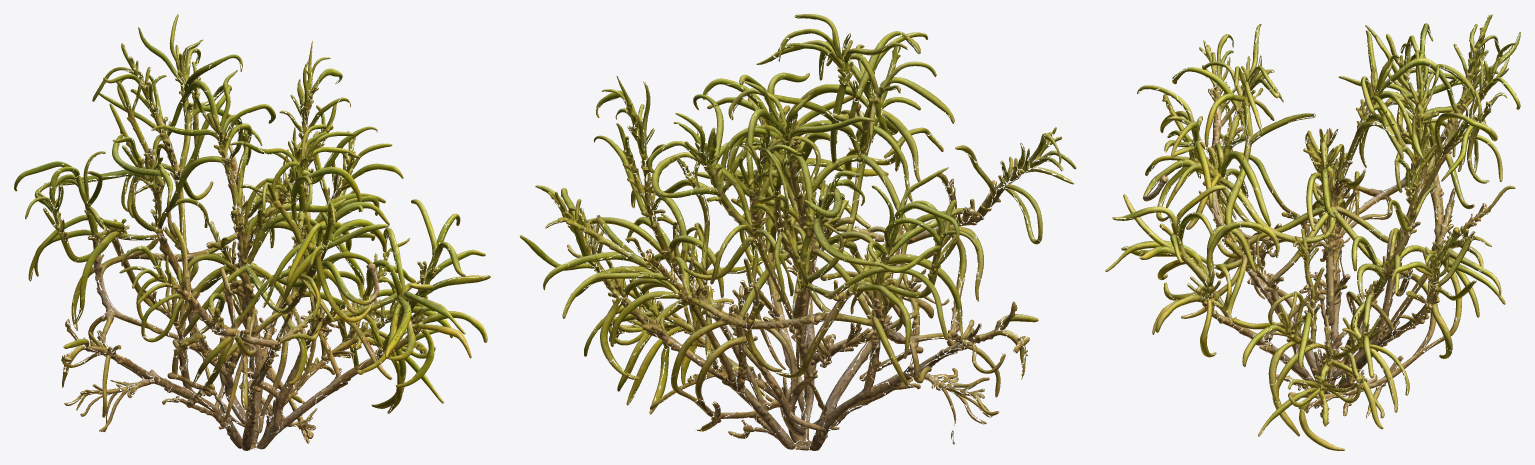
File: tabbaq.glb
3 views of the same model, side by side, from view 1: azimuth 30°, elevation 25°; view 2: azimuth 150°, elevation 25°; view 3: azimuth 270°, elevation 25° (orthographic). The views are drawn at different scales.
Visible parts, largest first — view 1: tripo_node_551b05f4-8efa-4c3d-abf8-5518541b1d22; view 2: tripo_node_551b05f4-8efa-4c3d-abf8-5518541b1d22; view 3: tripo_node_551b05f4-8efa-4c3d-abf8-5518541b1d22.
Boxes of the visible parts, x1,y1,x2,y2 form: tripo_node_551b05f4-8efa-4c3d-abf8-5518541b1d22: (14, 14, 490, 450); tripo_node_551b05f4-8efa-4c3d-abf8-5518541b1d22: (519, 14, 1076, 450); tripo_node_551b05f4-8efa-4c3d-abf8-5518541b1d22: (1105, 14, 1520, 450).
Bounding box in the file's own units: 0.984 × 0.8724 × 0.9193.
Materials: 1 (1 with a texture image).
